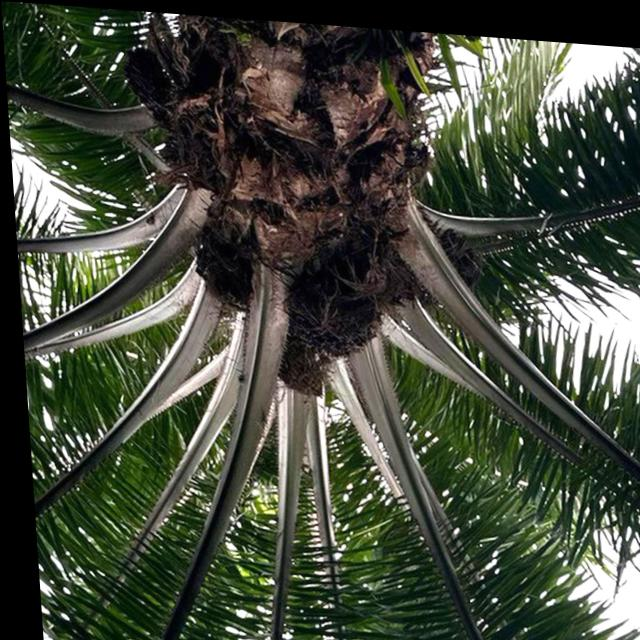unripe: (278, 267, 390, 360), (182, 222, 255, 310), (267, 342, 323, 399)
